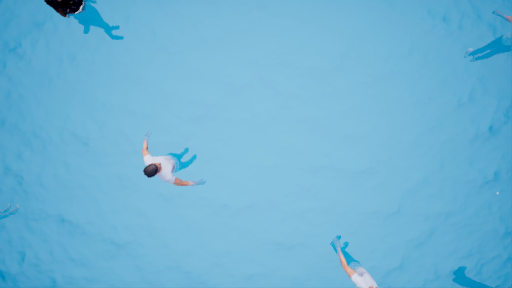person: (131, 129, 209, 191), (42, 1, 134, 43), (328, 240, 382, 288)
